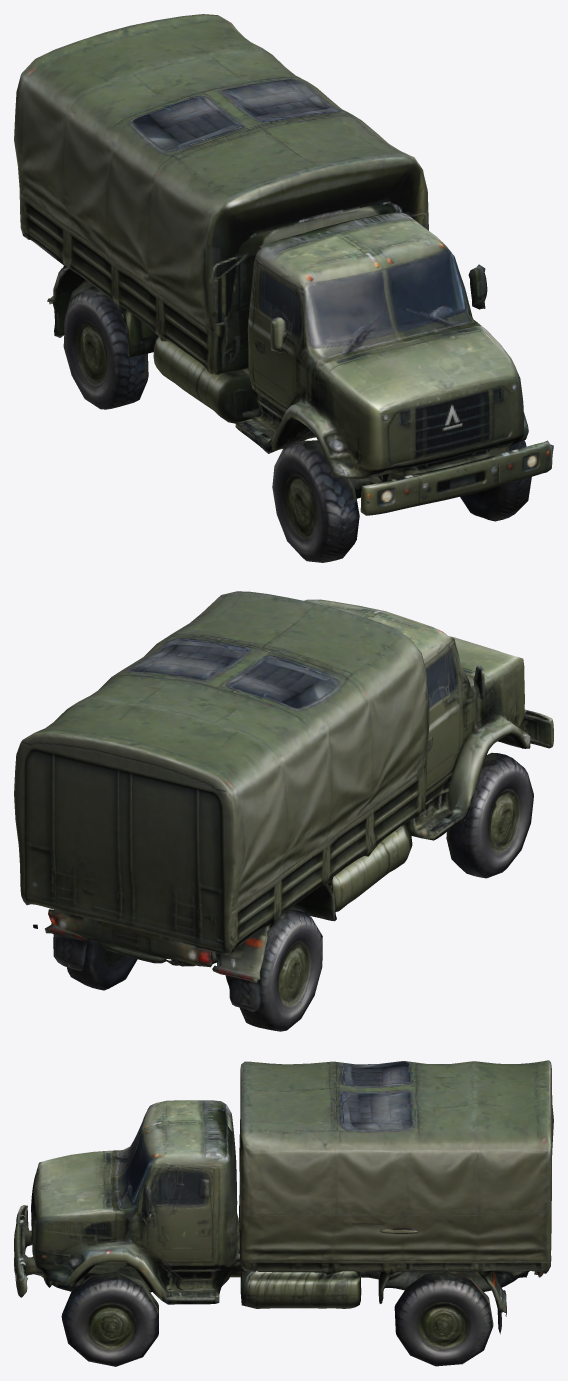
File: military_cargo_truck.glb
3 renders of one model, top to bottom at view 1: azimuth 30°, elevation 25°; view 2: azimuth 150°, elevation 25°; view 3: azimuth 270°, elevation 25°, orthographic. The views are drawn at different scales.
Visible parts, largest first — view 1: Mesh1_Mesh1.030; view 2: Mesh1_Mesh1.030; view 3: Mesh1_Mesh1.030.
Part boxes in pixels (<box>): Mesh1_Mesh1.030: <box>14,14,553,562</box>; Mesh1_Mesh1.030: <box>14,591,553,1031</box>; Mesh1_Mesh1.030: <box>14,1060,553,1366</box>.
Bounding box in the file's own units: 0.8907 × 0.9917 × 1.99.
1 material, 1 textured.
